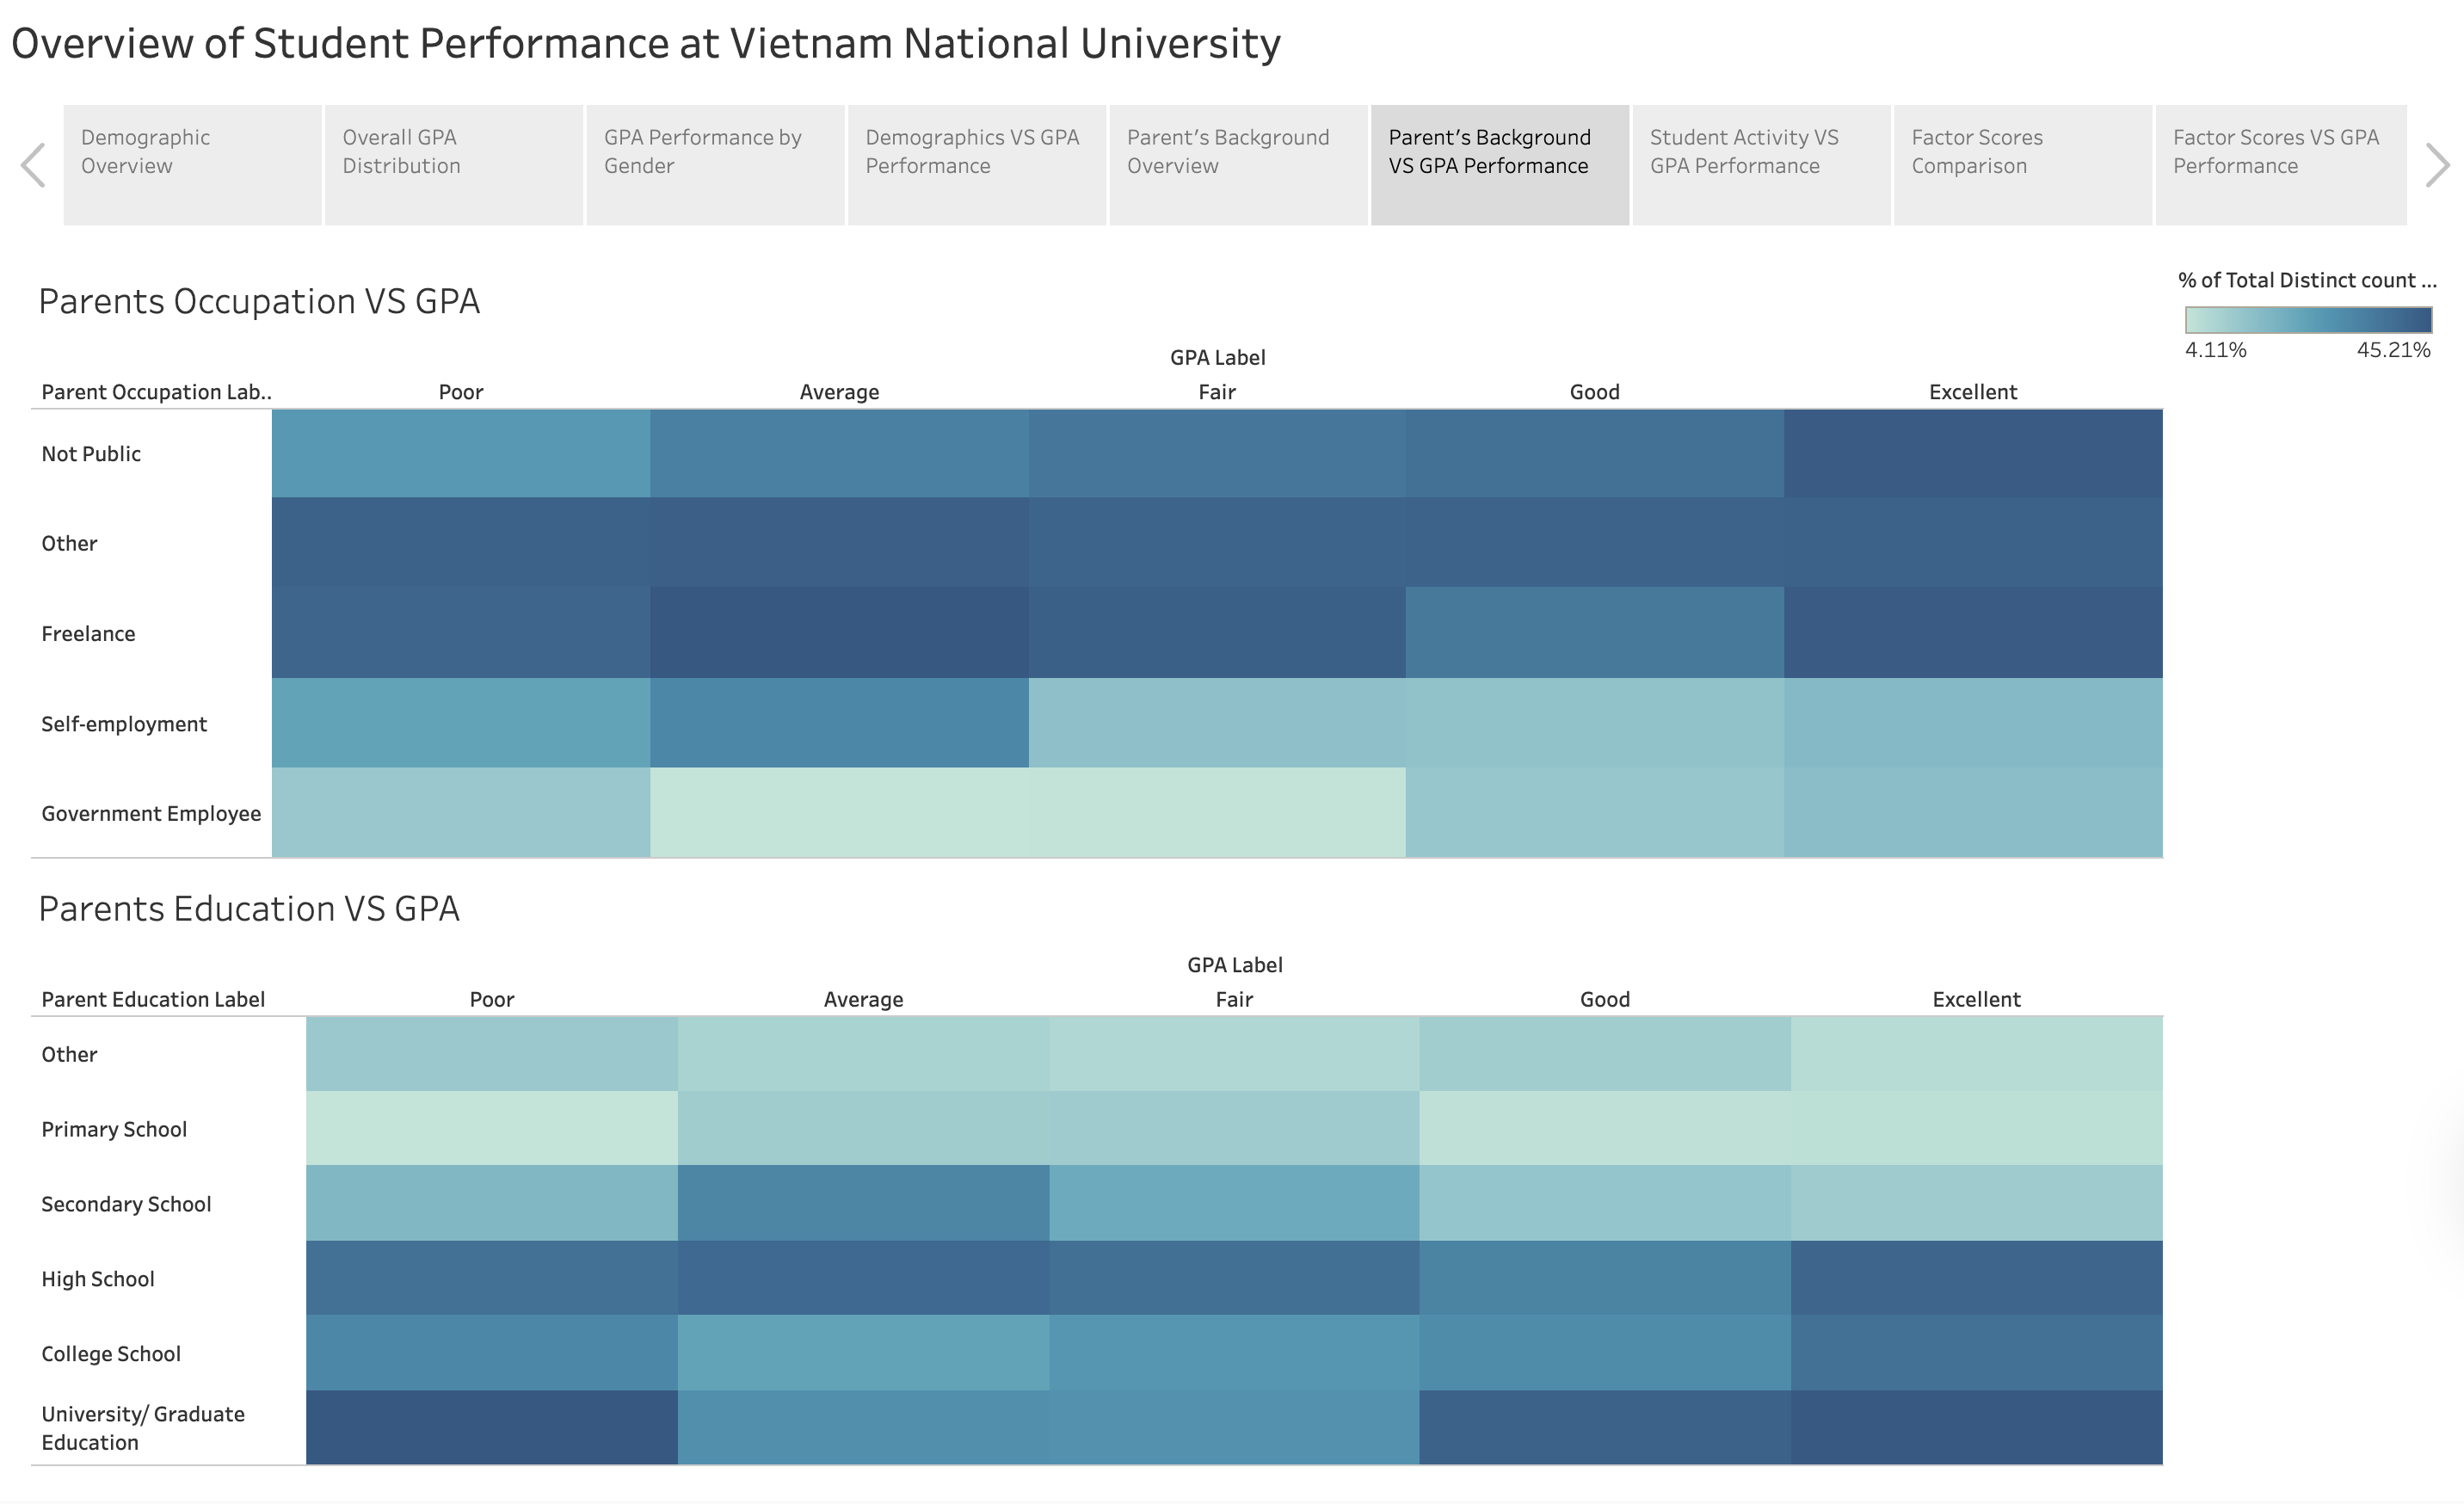

What the dashboard file says about the page in this screenshot:
{"tool":"tableau","page":{"name":"Parents Background VS GPA","canvas":[1000,1000],"units":"permille","ordinal":7},"visuals":[{"type":"worksheet","title":"Parents Occupation VS GPA","mark":"Automatic","rows":["Parent Education Label (copy)_0564434686181391"],"cols":["Calculation_0564434691989520"],"box":[5.7,11.5,875.5,488.5]},{"type":"legend","title":"Parents Education VS GPA","param":"[federated.05jevnn1tfsfa413nsuds1rxwbeq].[pcto:ctd:Response ID:qk:7]","box":[881.2,11.5,113.2,93.3]},{"type":"worksheet","title":"Parents Education VS GPA","mark":"Automatic","rows":["Calculation_0564434684051470"],"cols":["Calculation_0564434691989520"],"box":[5.7,500,875.5,488.5]}]}

Visuals, with their boxes on the dashboard's canvas, which has no fixed pixel size, in thousandths of its width and height (x1, y1, x2, y2). These are canvas units, not pixel positions in the 2464x1504 screenshot, which may show the page scaled, cropped or inside an application window:
"Parents Occupation VS GPA" worksheet: Rect(6, 12, 881, 500)
"Parents Education VS GPA" legend: Rect(881, 12, 994, 105)
"Parents Education VS GPA" worksheet: Rect(6, 500, 881, 988)
